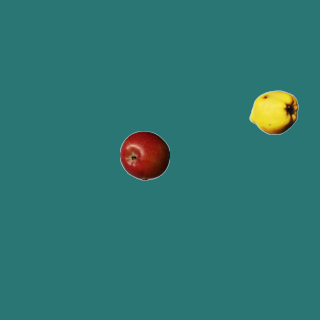Apple Braeburn: (119, 130, 169, 180)
Quince: (248, 87, 298, 137)
